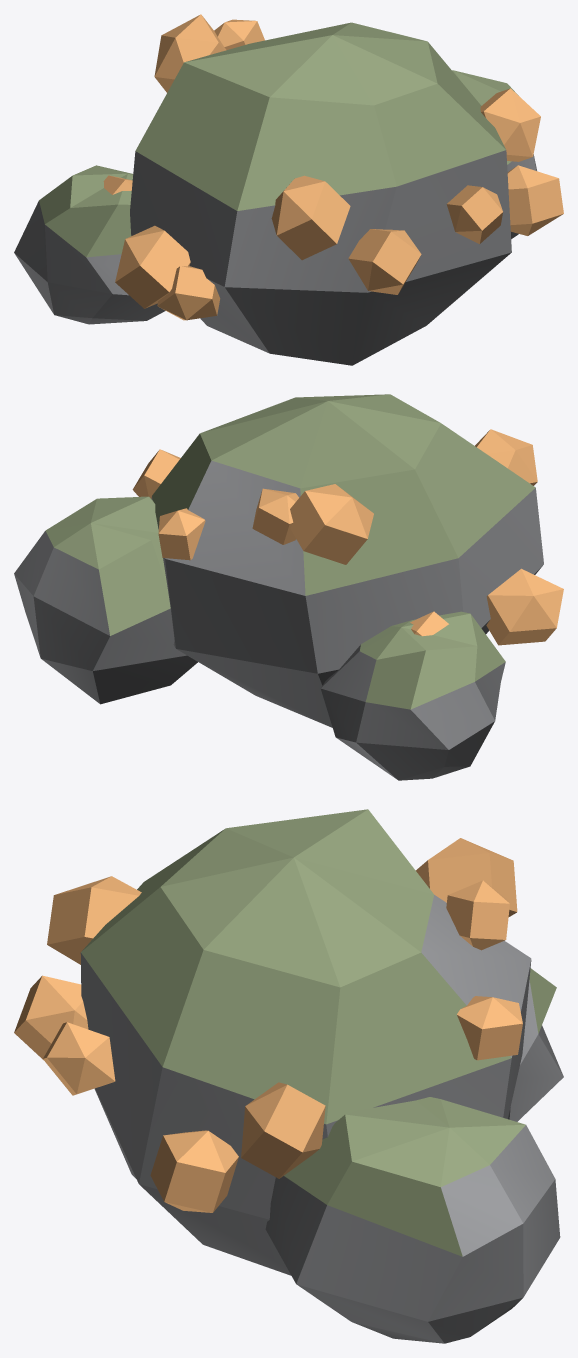
File: Ore_Copper.fbx
The picture shows the model from 3 angles, top to bottom: view 1: azimuth 30°, elevation 25°; view 2: azimuth 150°, elevation 25°; view 3: azimuth 270°, elevation 25°; orthographic projection. The views are drawn at different scales.
Visible parts, largest first — view 1: Res_Ore_Copper; view 2: Res_Ore_Copper; view 3: Res_Ore_Copper.
Part boxes in pixels (x1,y1,x2,y2): Res_Ore_Copper: [14, 14, 563, 365]; Res_Ore_Copper: [14, 394, 563, 780]; Res_Ore_Copper: [14, 809, 563, 1343].
Size of the model in its own units: 1.42 by 0.8357 by 1.1.
